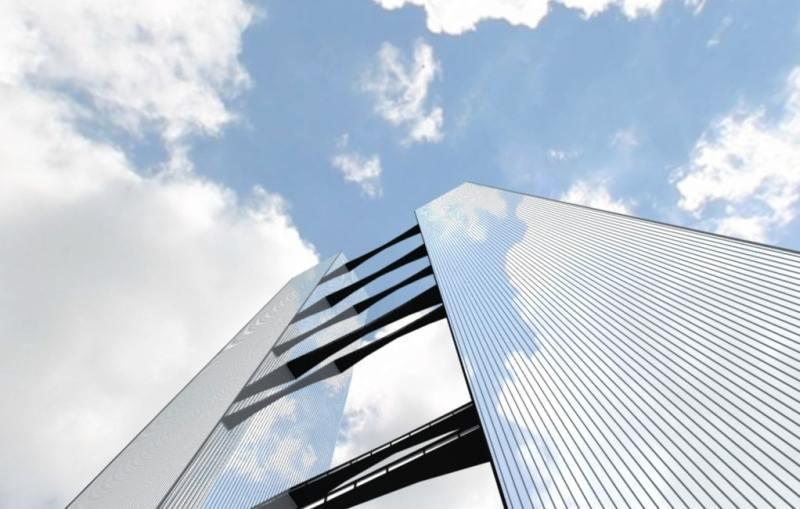building: (66, 180, 800, 509)
